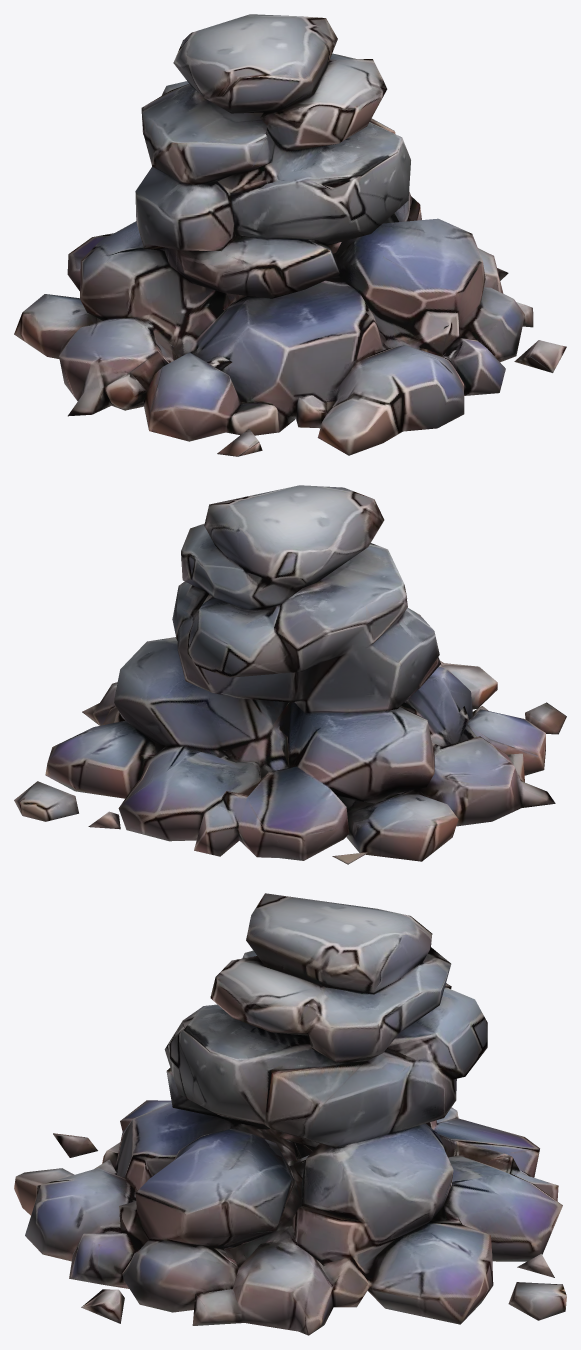
The model's file is stones1.glb.
3 views of the same model, one above another, from view 1: azimuth 30°, elevation 25°; view 2: azimuth 150°, elevation 25°; view 3: azimuth 270°, elevation 25° (orthographic). The views are drawn at different scales.
Bounding box in the file's own units: 2 × 1.19 × 1.94.
Materials: 1 (1 with a texture image).
